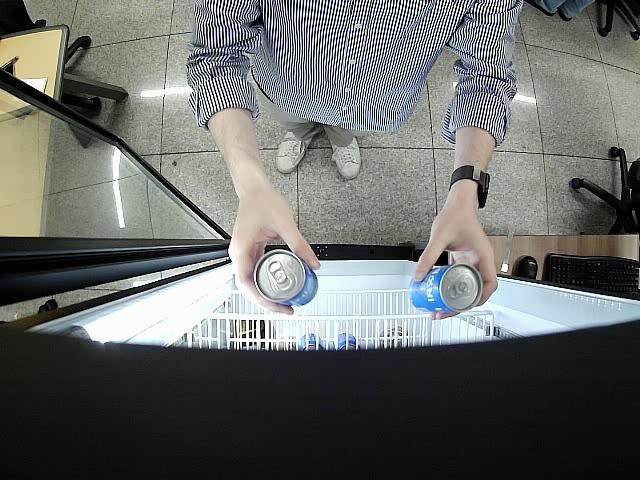00_hand: (230, 196, 319, 317), (415, 206, 496, 320)
15_letsbe: (255, 248, 317, 309), (411, 263, 482, 314)
